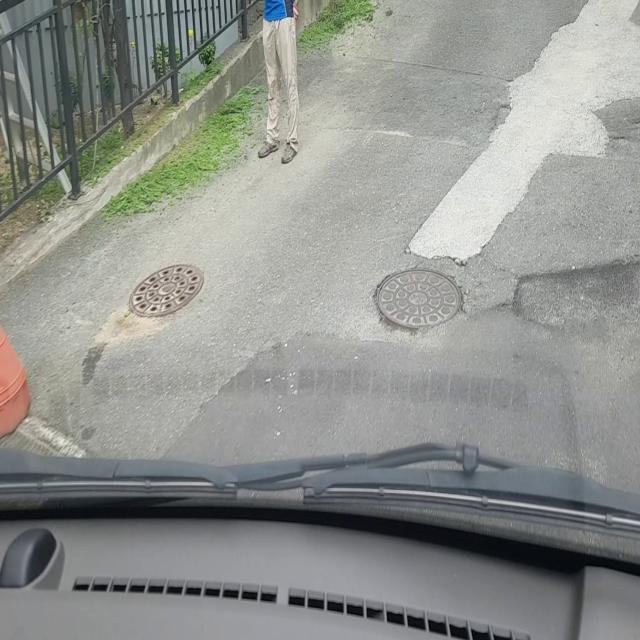Pothole: (372, 265, 469, 338)
